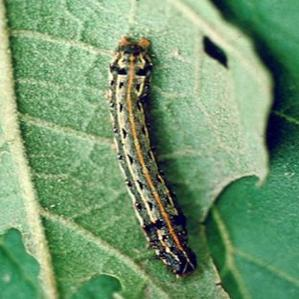Tobacco cutworm: (87, 14, 216, 294)
